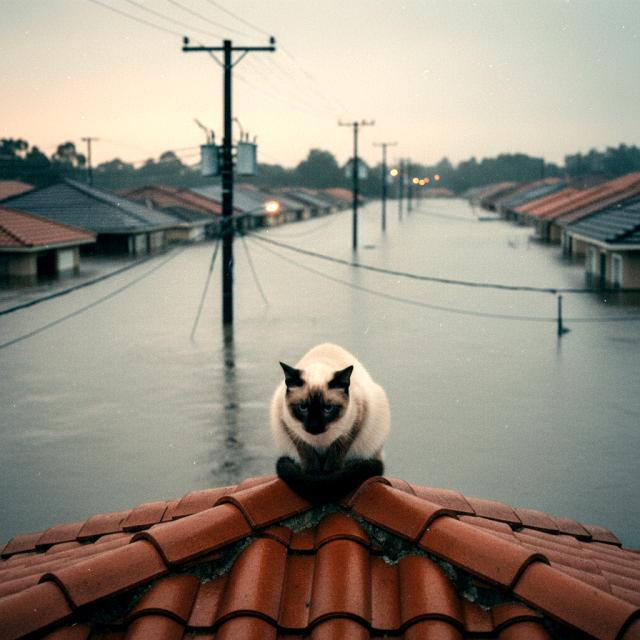cat: (248, 332, 403, 495)
